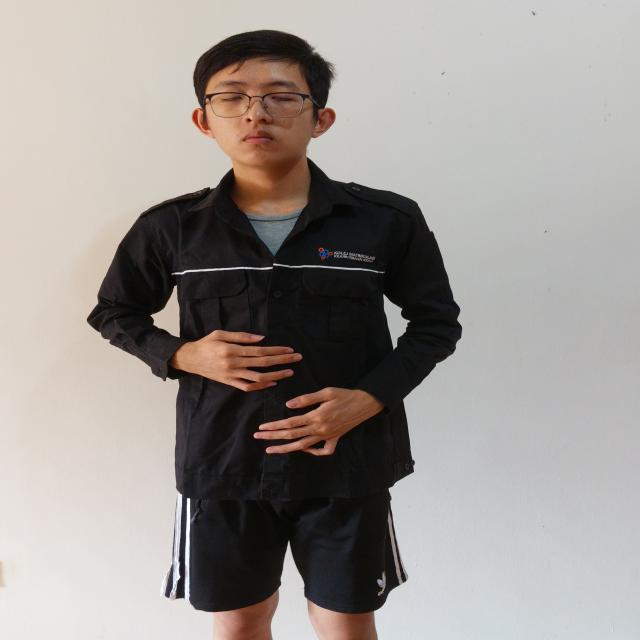person_with_labcoat: (88, 30, 461, 640)
